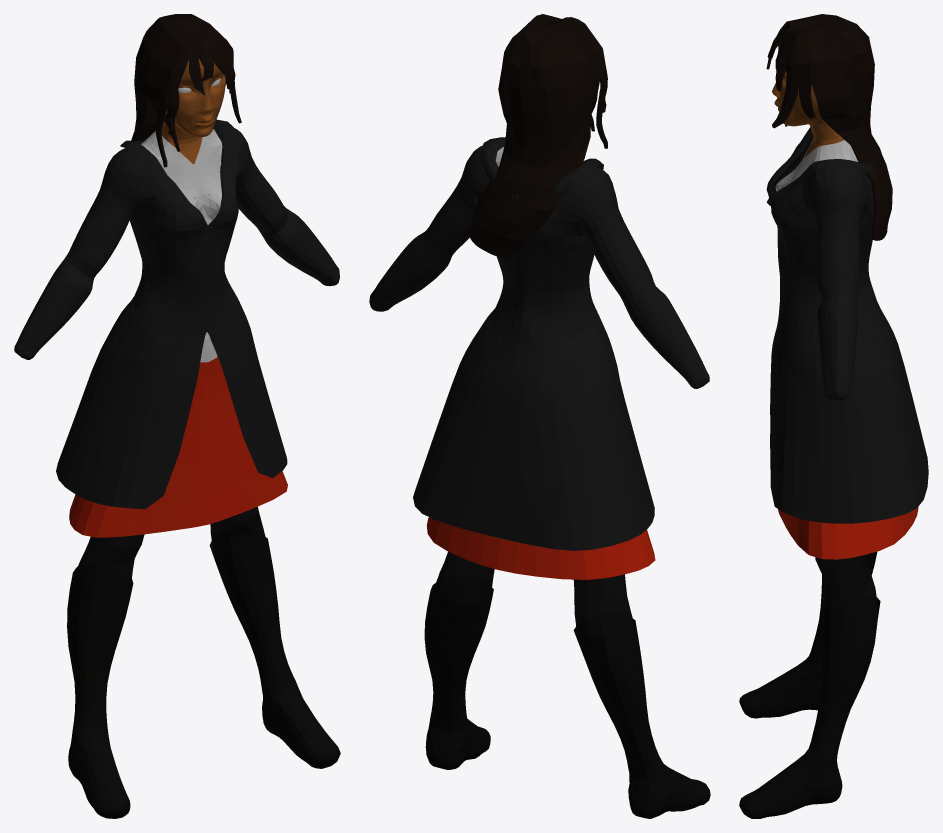
File: Character.obj
3 views of the same model, side by side, from view 1: azimuth 30°, elevation 25°; view 2: azimuth 150°, elevation 25°; view 3: azimuth 270°, elevation 25° (orthographic). The views are drawn at different scales.
Parts seen in each view (by area): view 1: Cube.009_Cube.010, Cube.010_Cube.011, Cube.007, Hair_Plane, Cube.008_Cube.009, Cube.006, Plane_Plane.001; view 2: Cube.009_Cube.010, Hair_Plane, Cube.010_Cube.011, Cube.007, Cube.008_Cube.009; view 3: Cube.009_Cube.010, Cube.010_Cube.011, Hair_Plane, Cube.007, Cube.008_Cube.009, Plane_Plane.001, Cube.006.
Boxes of the visible parts, bbox=[...] form: Cube.009_Cube.010: bbox=[14, 119, 339, 509]; Cube.010_Cube.011: bbox=[67, 537, 340, 818]; Cube.007: bbox=[69, 356, 287, 537]; Hair_Plane: bbox=[131, 14, 241, 167]; Cube.008_Cube.009: bbox=[74, 506, 266, 586]; Cube.006: bbox=[141, 129, 222, 362]; Plane_Plane.001: bbox=[161, 58, 225, 198]; Cube.009_Cube.010: bbox=[369, 137, 709, 550]; Hair_Plane: bbox=[467, 14, 607, 258]; Cube.010_Cube.011: bbox=[424, 583, 710, 818]; Cube.007: bbox=[426, 517, 655, 579]; Cube.008_Cube.009: bbox=[432, 551, 634, 635]; Cube.009_Cube.010: bbox=[766, 127, 928, 523]; Cube.010_Cube.011: bbox=[739, 551, 880, 818]; Hair_Plane: bbox=[766, 14, 892, 240]; Cube.007: bbox=[778, 507, 918, 559]; Cube.008_Cube.009: bbox=[815, 555, 877, 613]; Plane_Plane.001: bbox=[772, 43, 844, 180]; Cube.006: bbox=[775, 140, 858, 191].
Bounding box in the file's own units: 8.63 × 18.99 × 4.38.
